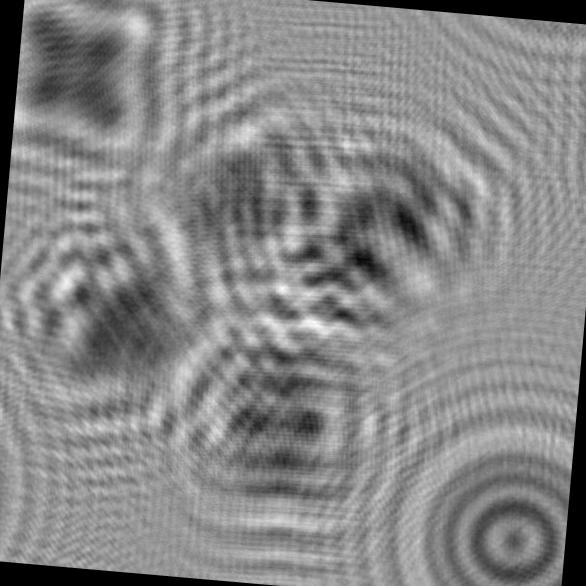H: (138, 306, 420, 571)
K: (0, 203, 251, 469)
M: (244, 84, 544, 368)
O: (365, 394, 577, 586)
T: (94, 62, 386, 345)
X: (7, 0, 222, 214)
